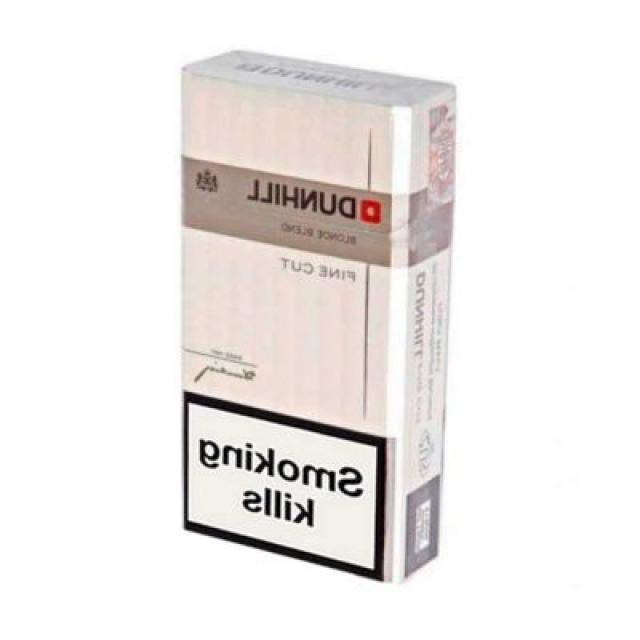dunhill: (166, 44, 456, 591)
